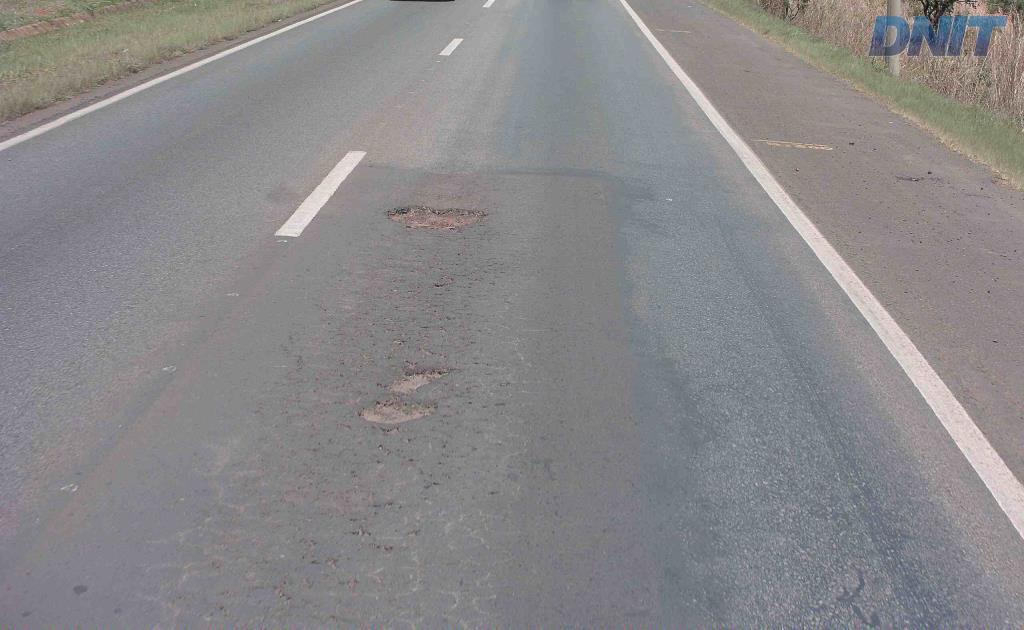pothole: (381, 200, 486, 235), (379, 359, 444, 394), (359, 397, 438, 425)
